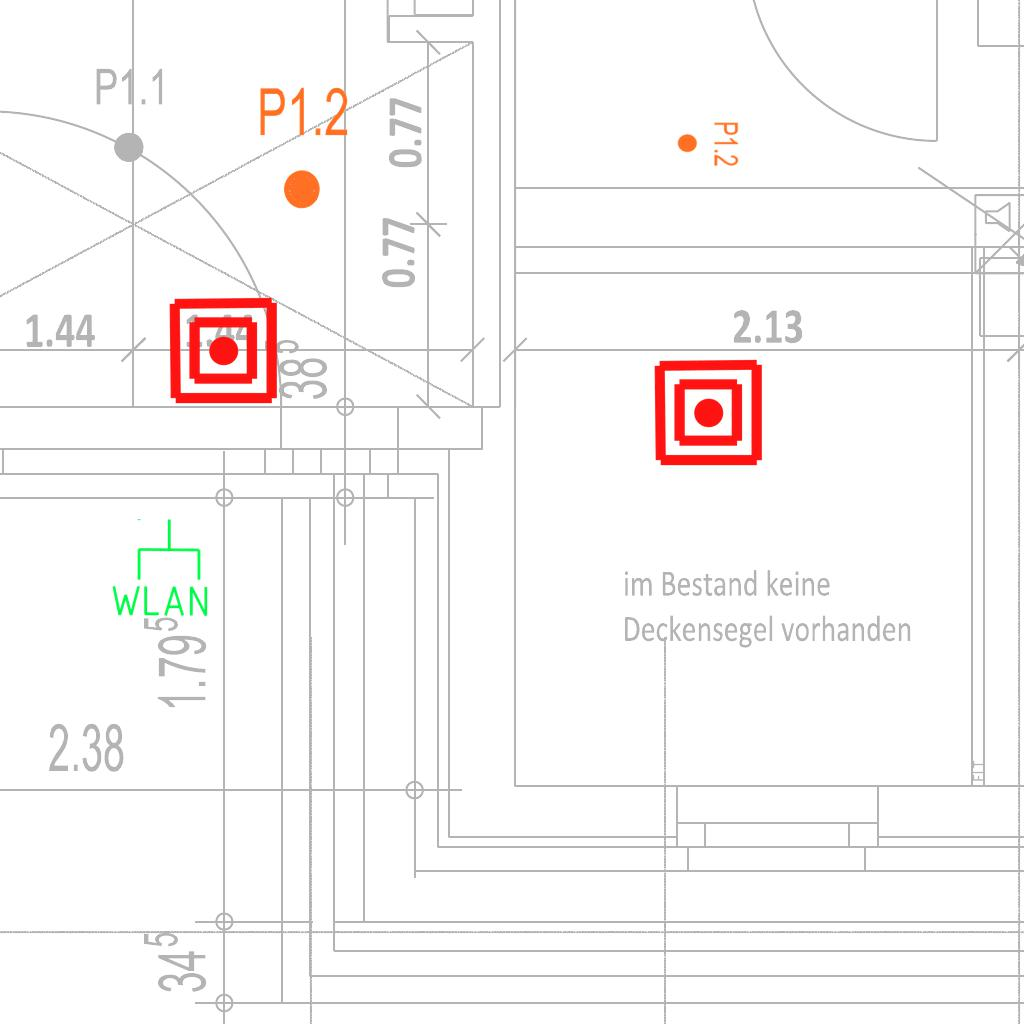Downlight_LED_Einbauleuchten_Flur: (257, 84, 350, 212), (676, 121, 740, 167)
NAM-Nichtautomatischer_Melder: (167, 294, 280, 407), (652, 356, 765, 469)
WLAN: (107, 516, 212, 620)
